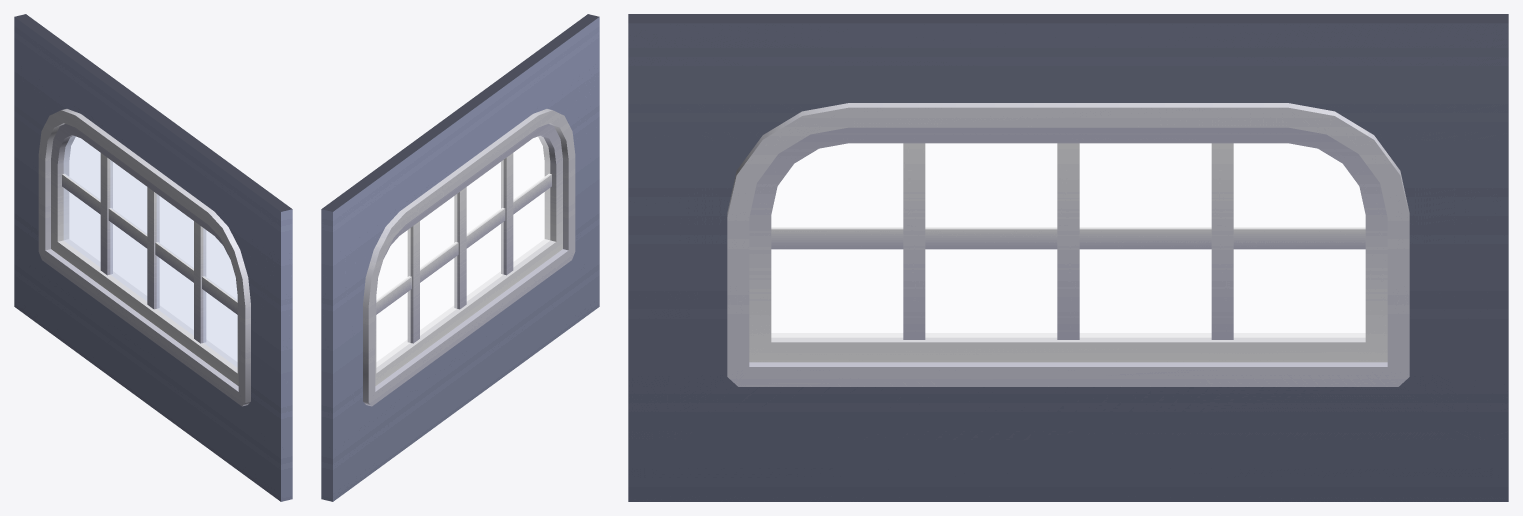
The model's file is wall-window-wide-round-detailed.glb.
3 renders of one model, left to right at view 1: azimuth 30°, elevation 25°; view 2: azimuth 150°, elevation 25°; view 3: azimuth 270°, elevation 25°, orthographic. The views are drawn at different scales.
Visible parts, largest first — view 1: wall-window-wide-round-detailed, (%ignore); view 2: wall-window-wide-round-detailed, (%ignore); view 3: wall-window-wide-round-detailed, (%ignore).
Part boxes in pixels (box(x1,y1,x2,y2)): wall-window-wide-round-detailed: box(14, 14, 292, 501); (%ignore): box(63, 136, 237, 367); wall-window-wide-round-detailed: box(321, 14, 599, 501); (%ignore): box(376, 136, 550, 367); wall-window-wide-round-detailed: box(628, 14, 1508, 501); (%ignore): box(771, 143, 1365, 337).
Bounding box in the file's own units: 0.2 × 2.4 × 4.
Materials: 2 (1 with a texture image).
